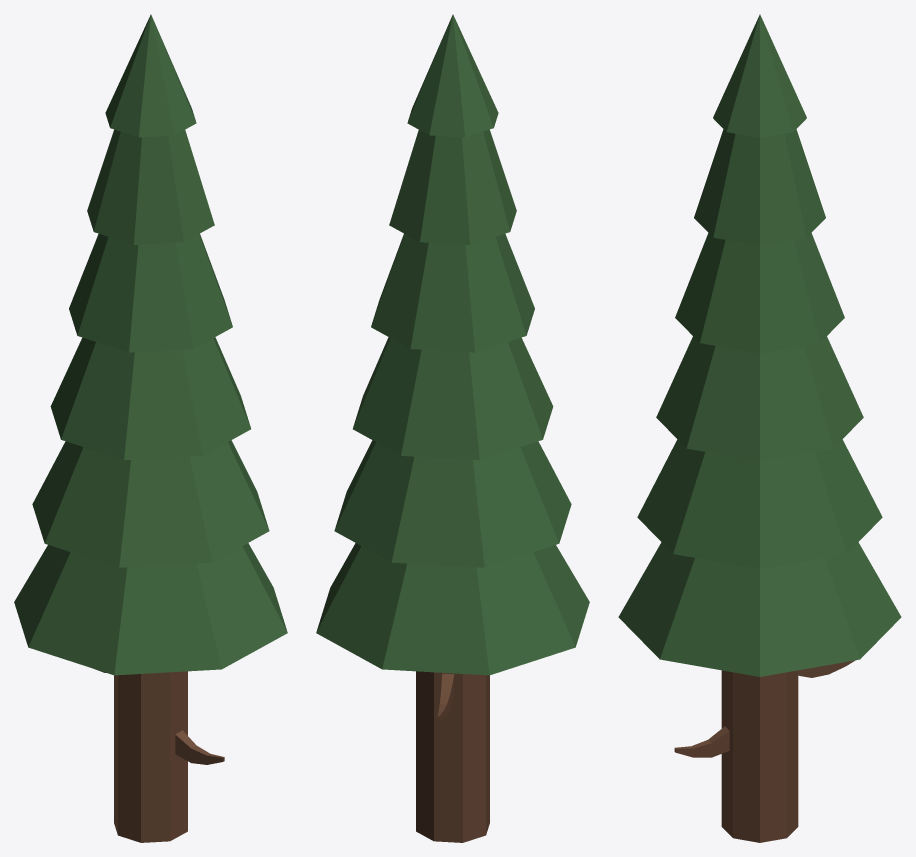
Rendered from BigFir.fbx.
3 renders of one model, left to right at view 1: azimuth 30°, elevation 25°; view 2: azimuth 150°, elevation 25°; view 3: azimuth 270°, elevation 25°, orthographic.
Visible parts, largest first — view 1: node_id71.001, BigFir; view 2: node_id71.001, BigFir; view 3: node_id71.001, BigFir.
Part boxes in pixels (left/top/right/bottom): node_id71.001: left=14, top=14, right=287, bottom=675; BigFir: left=95, top=669, right=224, bottom=842; node_id71.001: left=316, top=14, right=589, bottom=675; BigFir: left=416, top=671, right=489, bottom=842; node_id71.001: left=618, top=14, right=901, bottom=676; BigFir: left=674, top=660, right=855, bottom=842.
Bounding box in the file's own units: 104 × 329 × 104.
